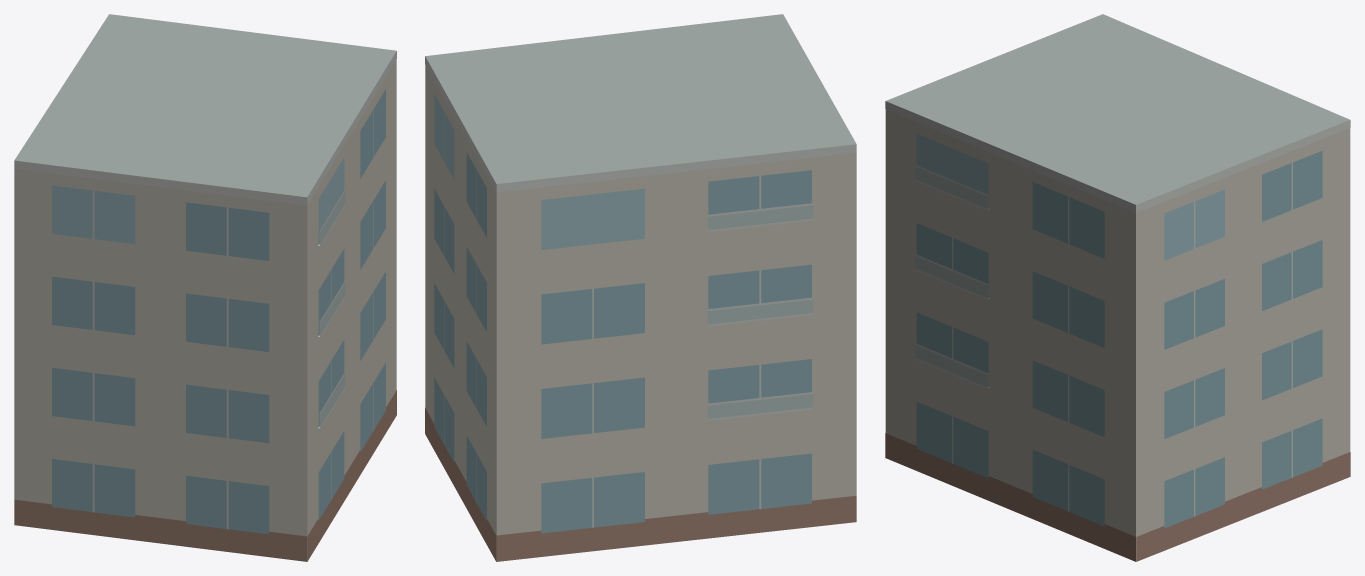
The model's file is survey-upis-32883281.glb.
3 renders of one model, left to right at view 1: azimuth 30°, elevation 25°; view 2: azimuth 150°, elevation 25°; view 3: azimuth 270°, elevation 25°, orthographic. The views are drawn at different scales.
Visible parts, largest first — view 1: survey-upis-32883281.tmp; view 2: survey-upis-32883281.tmp; view 3: survey-upis-32883281.tmp.
Boxes of the visible parts, x1,y1,x2,y2 form: survey-upis-32883281.tmp: [14, 14, 396, 561]; survey-upis-32883281.tmp: [425, 14, 856, 561]; survey-upis-32883281.tmp: [885, 14, 1350, 561].
Bounding box in the file's own units: 12.39 × 10.8 × 12.75.
